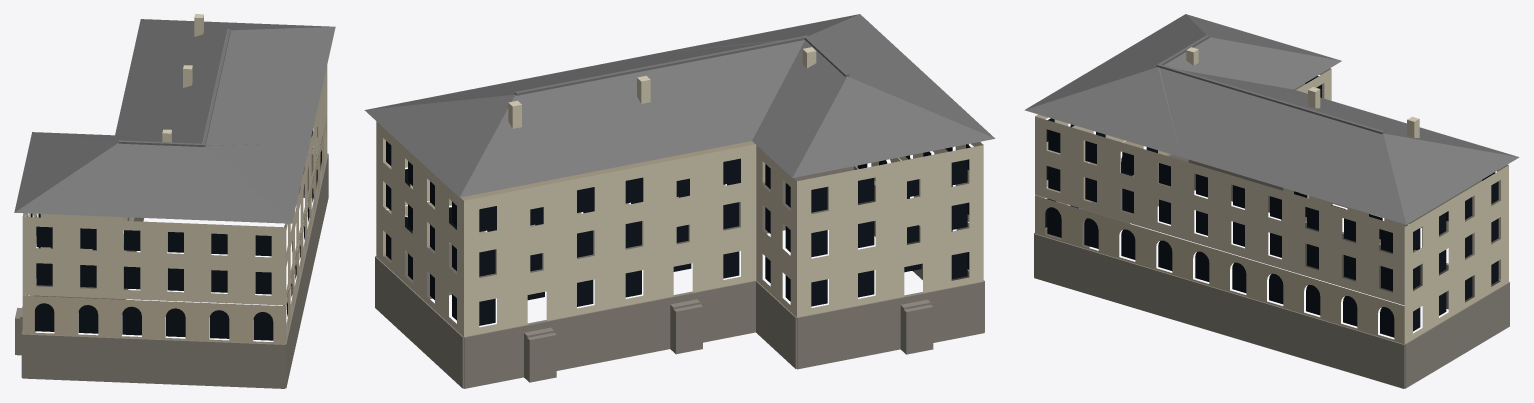
File: nahimova12.lod.glb
The picture shows the model from 3 angles, left to right: view 1: azimuth 30°, elevation 25°; view 2: azimuth 150°, elevation 25°; view 3: azimuth 270°, elevation 25°; orthographic projection. The views are drawn at different scales.
Parts seen in each view (by area): view 1: nahimova12_roof, nahimova12_wall, nahimova12_stone, nahimova12_wall2, nahimova12_glass; view 2: nahimova12_wall, nahimova12_roof, nahimova12_stone, nahimova12_glass, nahimova12_wall2; view 3: nahimova12_roof, nahimova12_wall, nahimova12_stone, nahimova12_glass, nahimova12_wall2.
Boxes of the visible parts, x1,y1,x2,y2 form: nahimova12_roof: (14, 19, 335, 223); nahimova12_wall: (22, 14, 327, 305); nahimova12_stone: (15, 153, 328, 388); nahimova12_wall2: (22, 116, 327, 344); nahimova12_glass: (27, 127, 322, 340); nahimova12_wall: (376, 47, 983, 336); nahimova12_roof: (364, 14, 995, 197); nahimova12_stone: (375, 165, 984, 388); nahimova12_glass: (386, 141, 970, 325); nahimova12_wall2: (383, 141, 969, 254); nahimova12_roof: (1024, 14, 1519, 224); nahimova12_wall: (1035, 47, 1508, 343); nahimova12_stone: (1034, 153, 1509, 388); nahimova12_glass: (1045, 76, 1498, 337); nahimova12_wall2: (1035, 141, 1404, 344).
Size of the model in its own units: 38.96 by 18 by 38.7.
